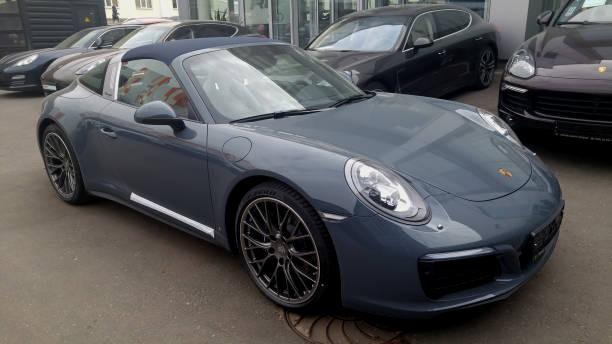porsche: (493, 164, 519, 182)
